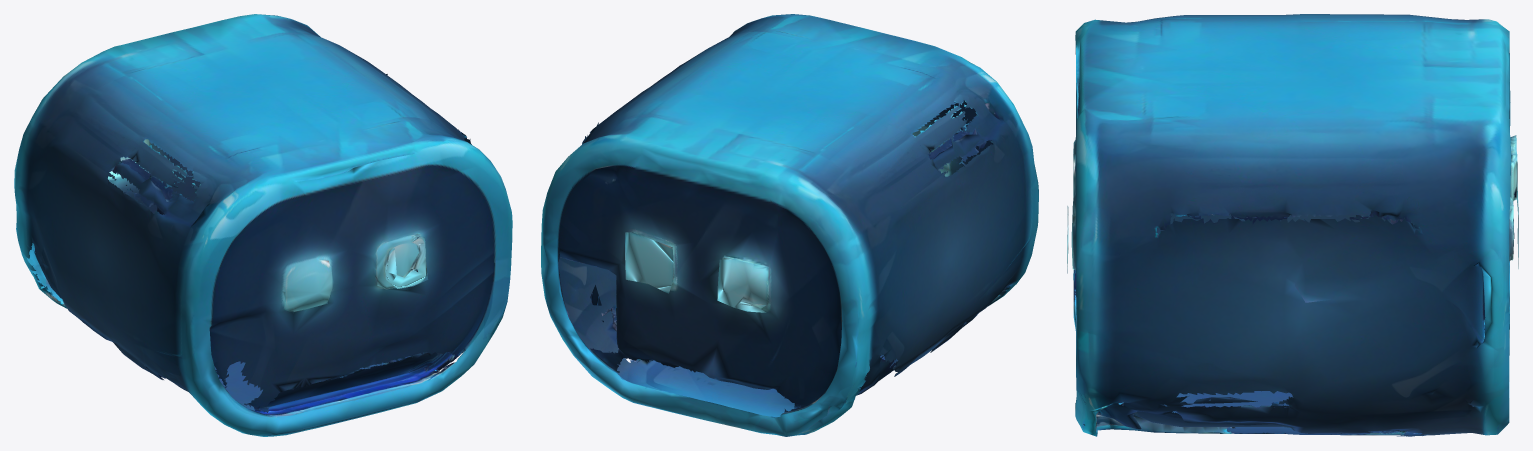
The model's file is Sandy-AI.glb.
3 renders of one model, left to right at view 1: azimuth 30°, elevation 25°; view 2: azimuth 150°, elevation 25°; view 3: azimuth 270°, elevation 25°, orthographic. The views are drawn at different scales.
Size of the model in its own units: 2 by 1.55 by 1.99.
Materials: 1 (1 with a texture image).
